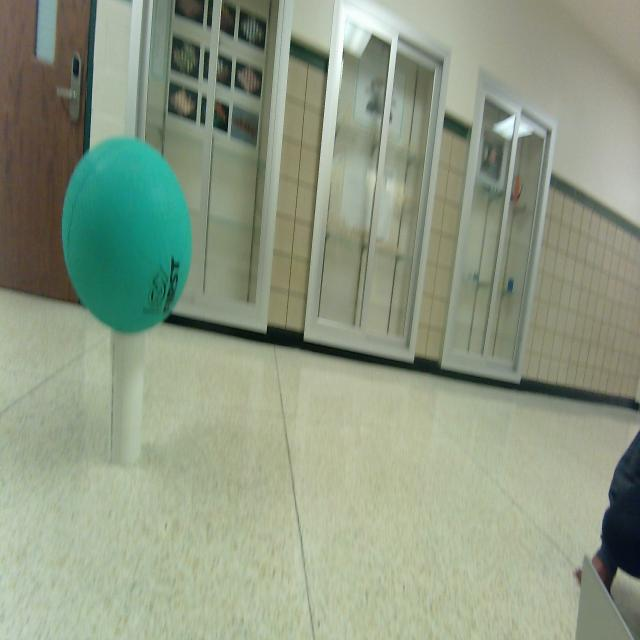algae: (62, 136, 192, 333)
coral: (109, 328, 147, 466)
